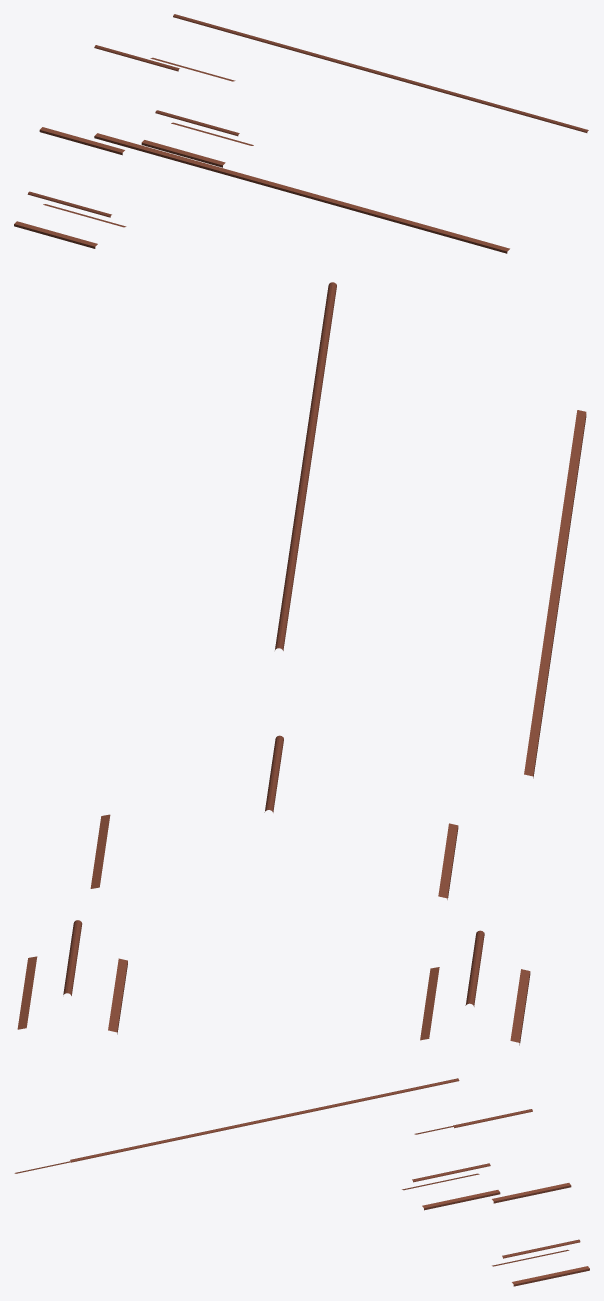
The picture shows the model from 3 angles, top to bottom: view 1: azimuth 30°, elevation 25°; view 2: azimuth 150°, elevation 25°; view 3: azimuth 270°, elevation 25°; orthographic projection. The views are drawn at different scales.
Visible parts, largest first — view 1: detail; view 2: detail; view 3: detail.
Part boxes in pixels (x1,y1,x2,y2): detail: (14, 14, 588, 253); detail: (17, 282, 586, 1045); detail: (14, 1078, 589, 1286).
Bounding box in the file's own units: 23.94 × 12.39 × 39.94.
